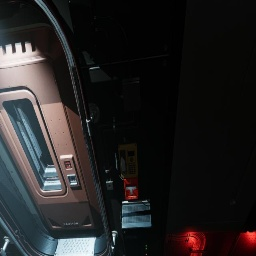EmergencyPhone ,: (114, 135, 138, 180)
FireAlarm ,: (124, 176, 139, 200)
